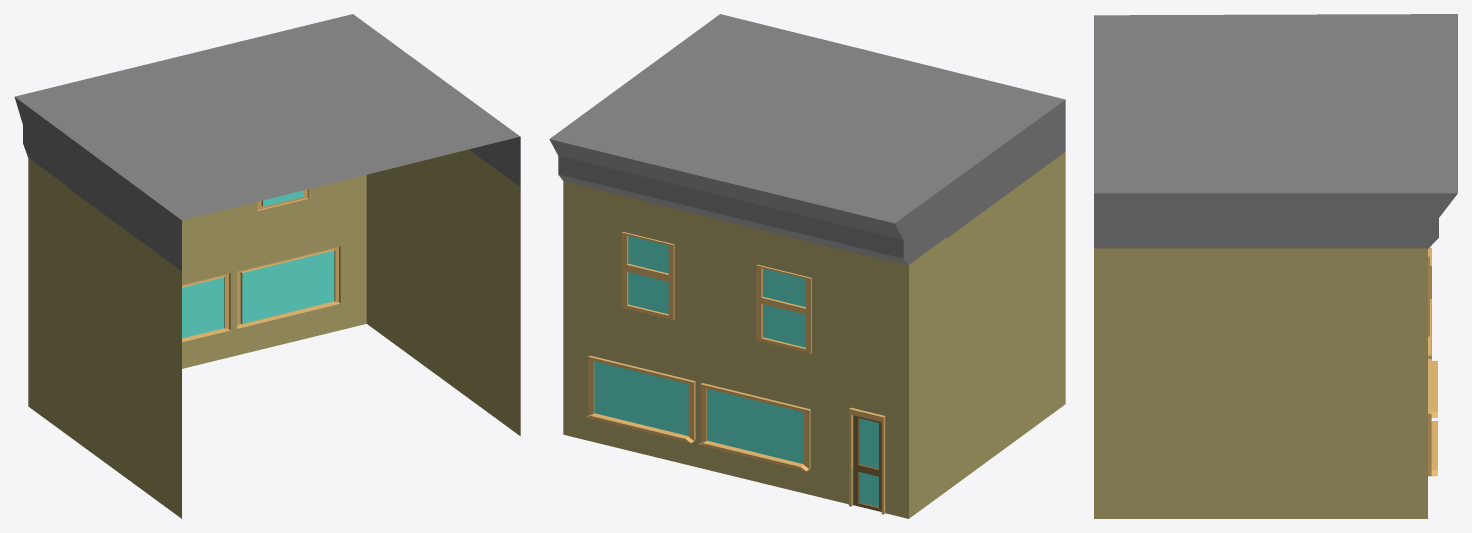
Rendered from Building4.FBX.
3 views of the same model, side by side, from view 1: azimuth 30°, elevation 25°; view 2: azimuth 150°, elevation 25°; view 3: azimuth 270°, elevation 25° (orthographic). The views are drawn at different scales.
Visible parts, largest first — view 1: Box013; view 2: Box013; view 3: Box013.
Part boxes in pixels (x1,y1,x2,y2): Box013: (14, 14, 520, 518); Box013: (549, 14, 1065, 518); Box013: (1094, 14, 1457, 518).
Bounding box in the file's own units: 1037 × 877 × 889.
